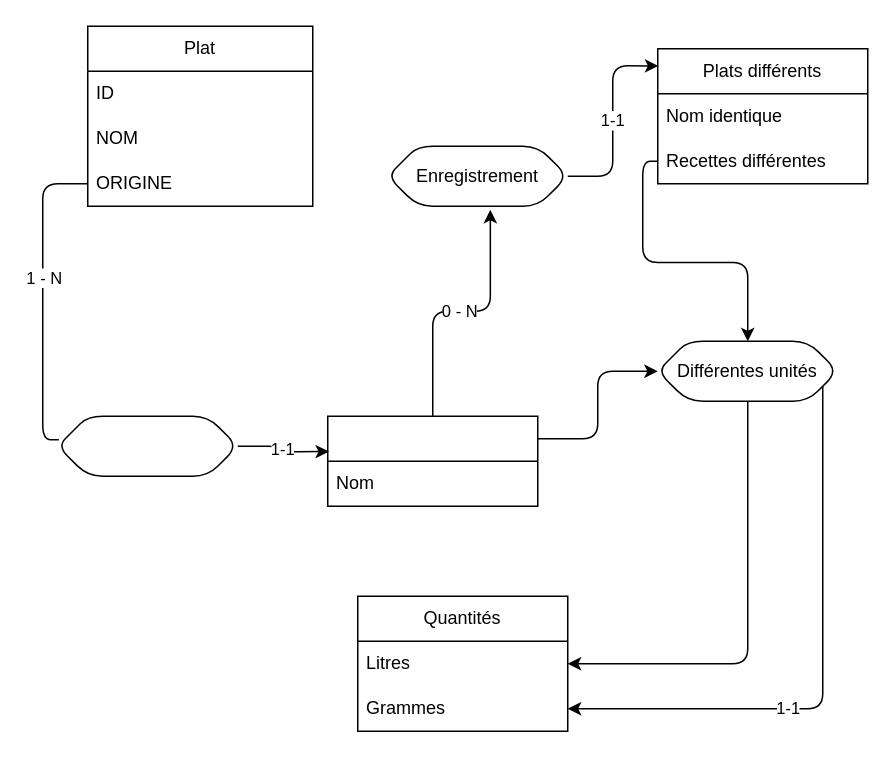
Image size: 894x758. Some labels were removed from this diagram. Here are the shapes that lost their labels. From the top down, the box of each, then its label:
(56, 415, 238, 476): Compositions
(326, 415, 538, 506): Ingrédients
